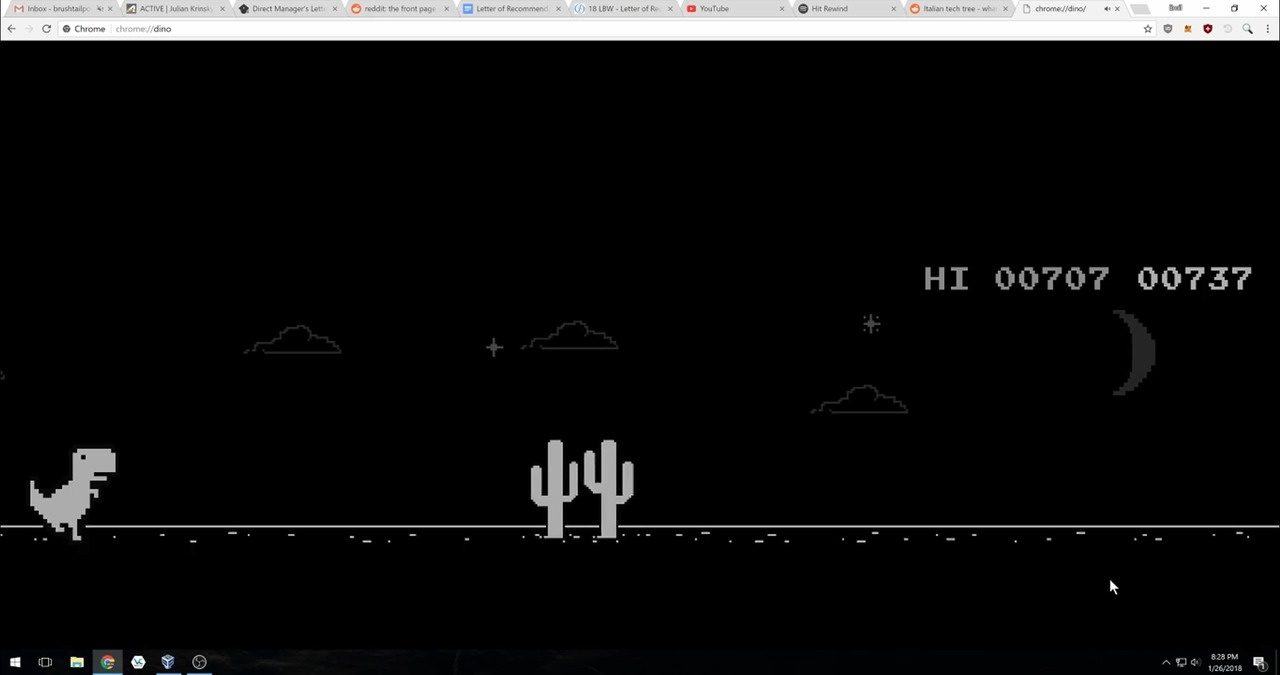cactus: (524, 435, 640, 545)
dinosaur: (27, 443, 119, 546)
